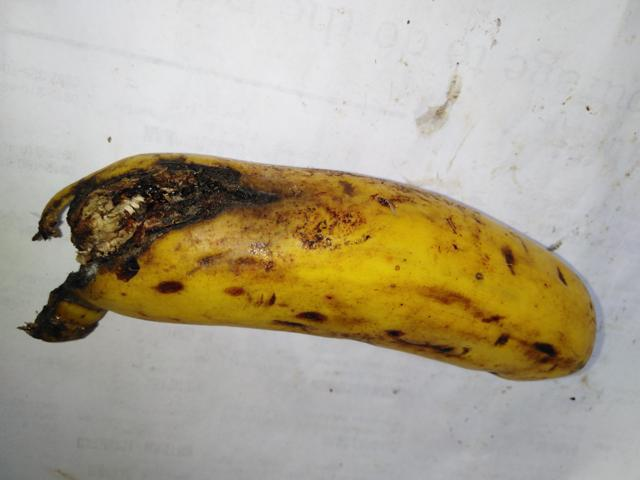ripe: (268, 139, 597, 412)
rotten: (40, 142, 306, 333)
